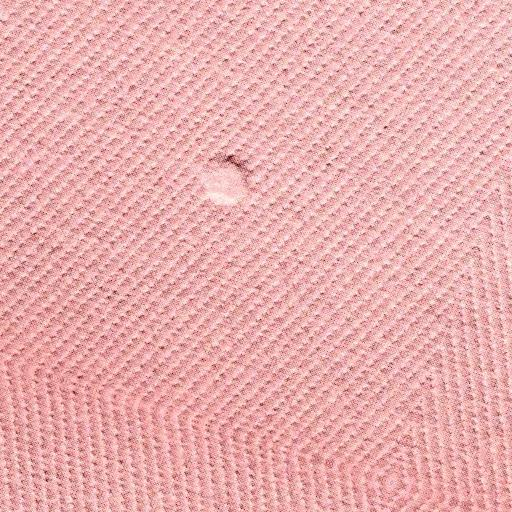knot: (192, 151, 259, 213)
